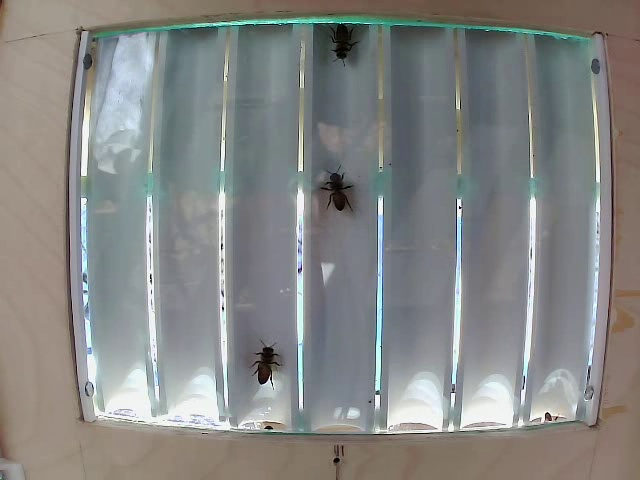bee: (313, 151, 370, 212), (241, 335, 293, 388), (322, 13, 362, 74)
